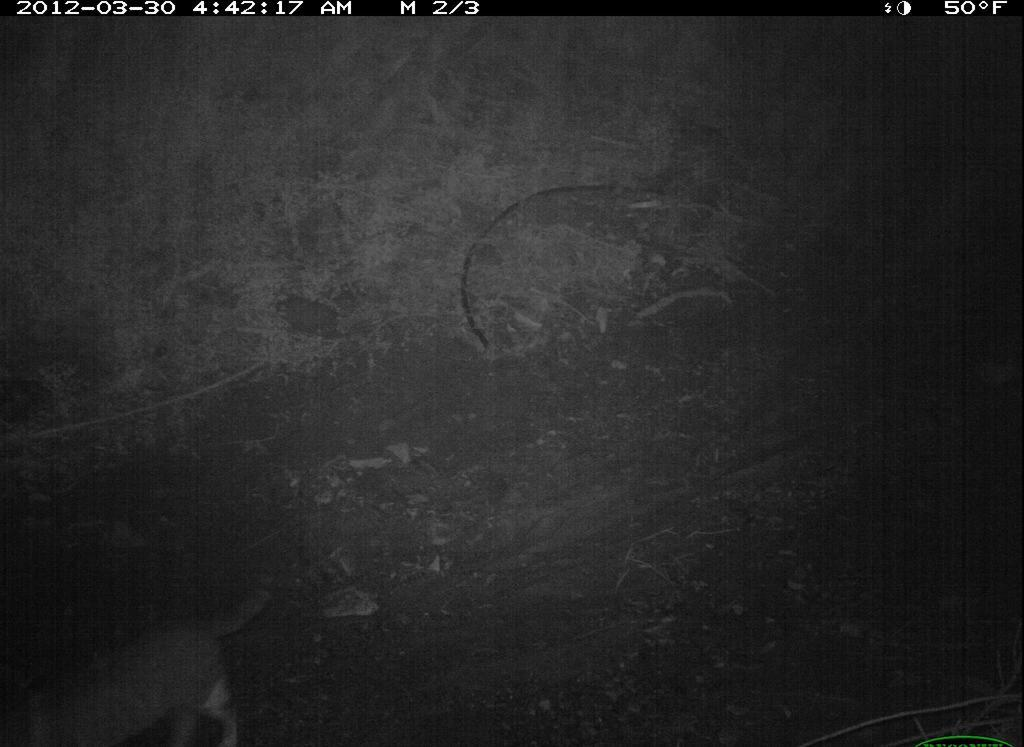cat: (6, 569, 290, 745)
